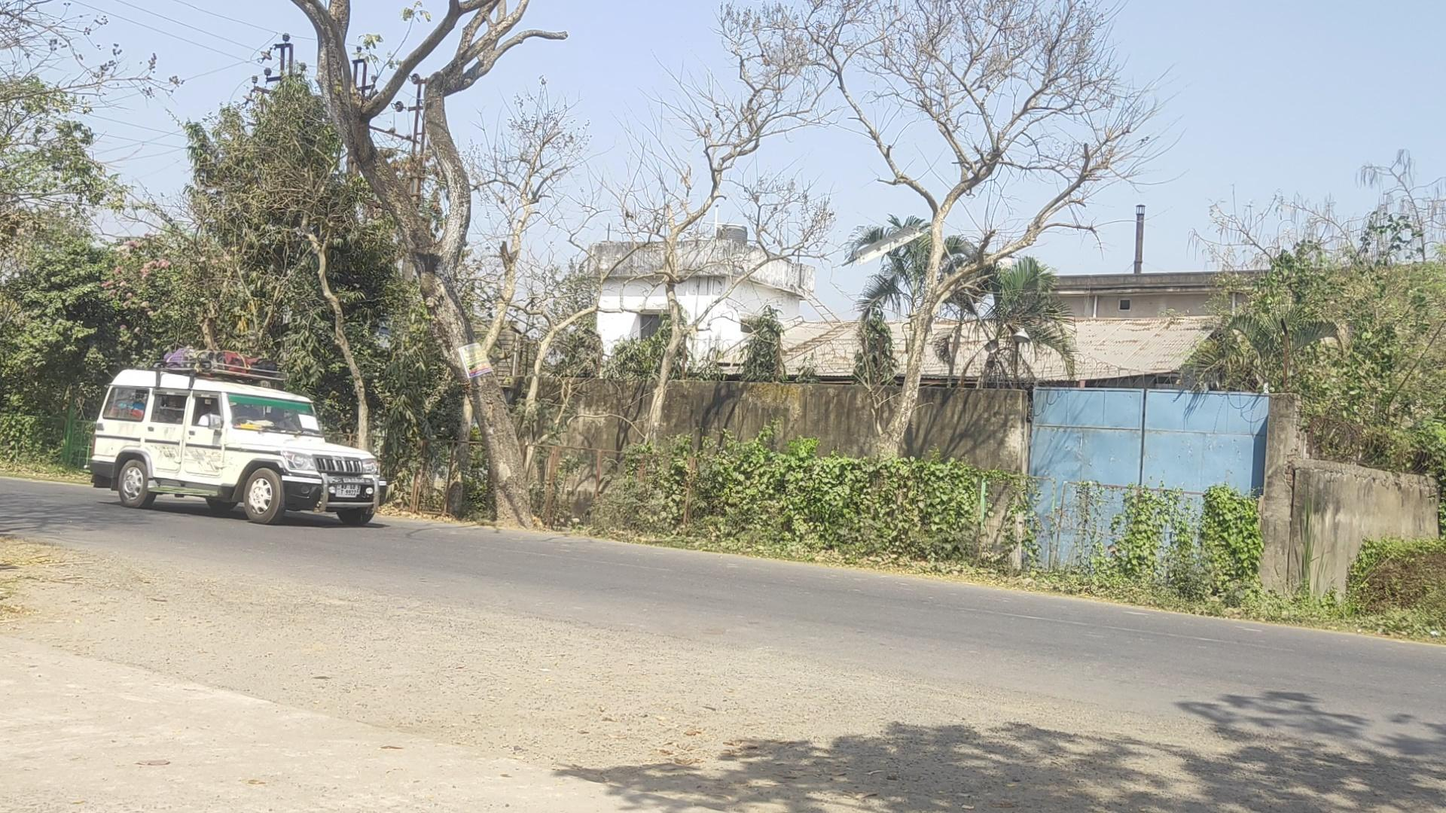car: (84, 346, 386, 527)
